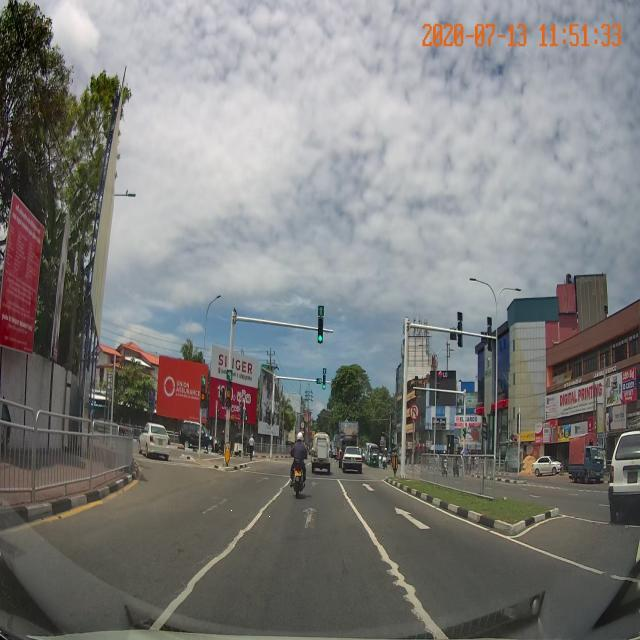forward: (228, 500, 383, 545)
